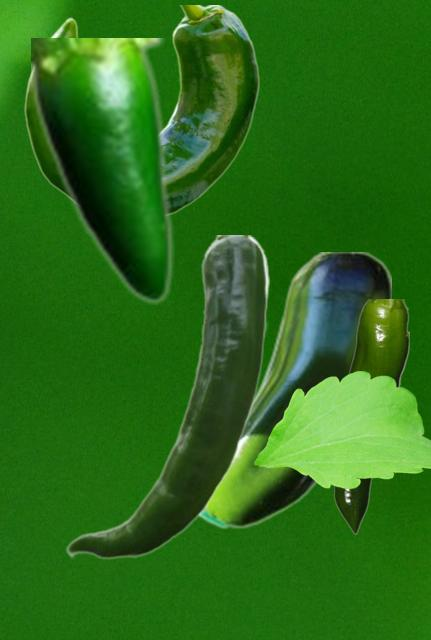green_chili: (65, 235, 269, 559), (198, 252, 390, 529), (24, 5, 259, 215), (31, 38, 173, 304), (333, 299, 408, 533)
